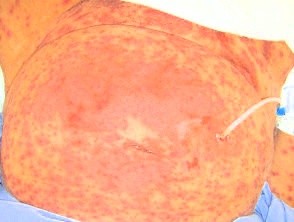SJS-TEN: (0, 0, 290, 222)
